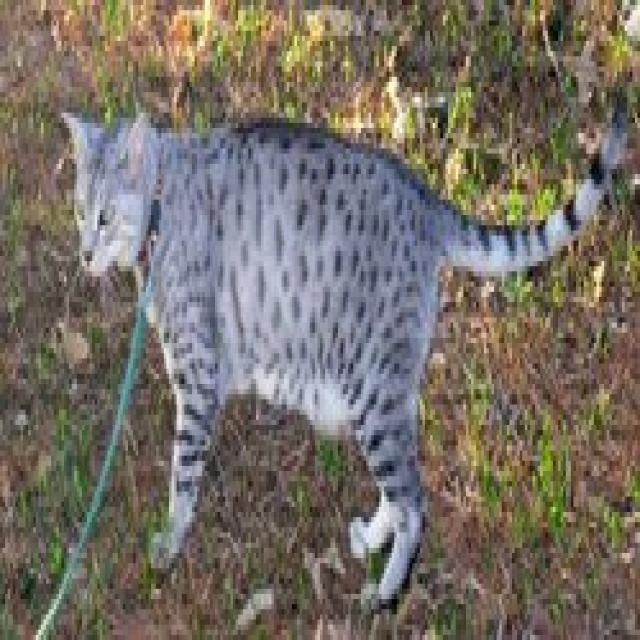Egyptian_Mau: (52, 96, 166, 294)
